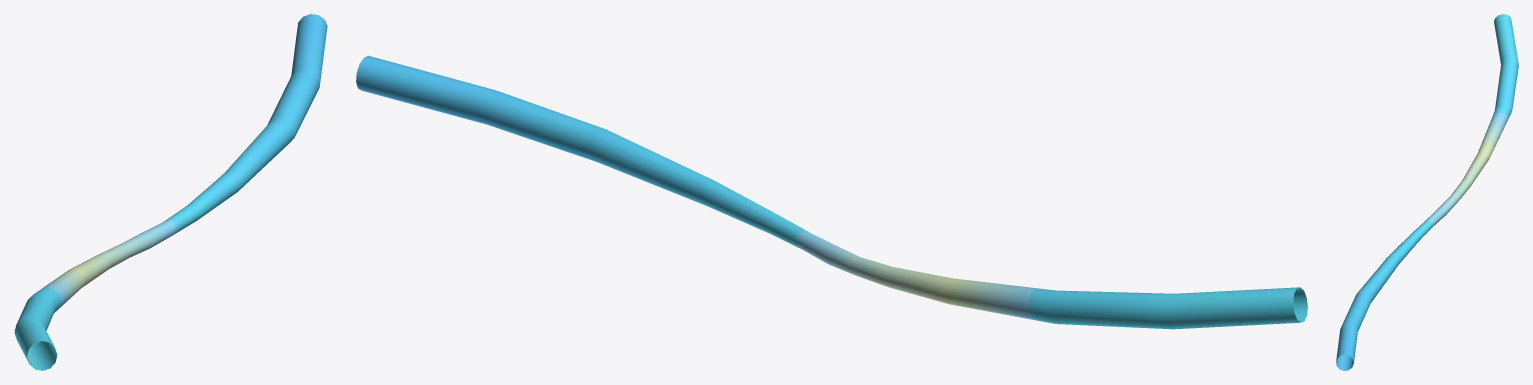
The model's file is SinopseWire.003.fbx.
3 renders of one model, left to right at view 1: azimuth 90°, elevation 25°; view 2: azimuth 150°, elevation 25°; view 3: azimuth 270°, elevation 25°, orthographic. The views are drawn at different scales.
Visible parts, largest first — view 1: SinopseWire.003; view 2: SinopseWire.003; view 3: SinopseWire.003.
Boxes of the visible parts, x1,y1,x2,y2 form: SinopseWire.003: (14,14,327,370); SinopseWire.003: (356,55,1307,329); SinopseWire.003: (1336,14,1518,370).
Bounding box in the file's own units: 6.38 × 1.01 × 1.84.
Materials: 1 (1 with a texture image).
